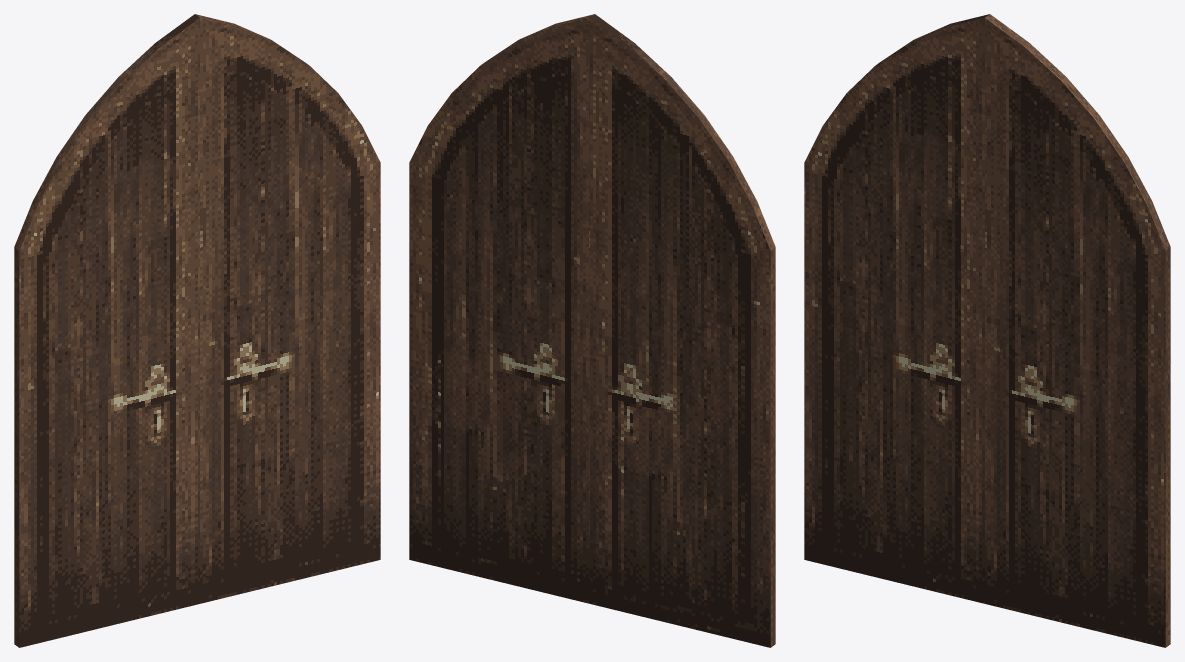
The model's file is main-door_mansion.glb.
3 renders of one model, left to right at view 1: azimuth 30°, elevation 25°; view 2: azimuth 150°, elevation 25°; view 3: azimuth 330°, elevation 25°, orthographic.
Parts seen in each view (by area): view 1: main_door_mansion-col; view 2: main_door_mansion-col; view 3: main_door_mansion-col.
Part boxes in pixels (bbox=[...]): main_door_mansion-col: bbox=[14, 14, 380, 647]; main_door_mansion-col: bbox=[409, 14, 775, 647]; main_door_mansion-col: bbox=[804, 14, 1170, 647].
Bounding box in the file's own units: 2 × 3.1 × 0.05.
1 material, 1 textured.
